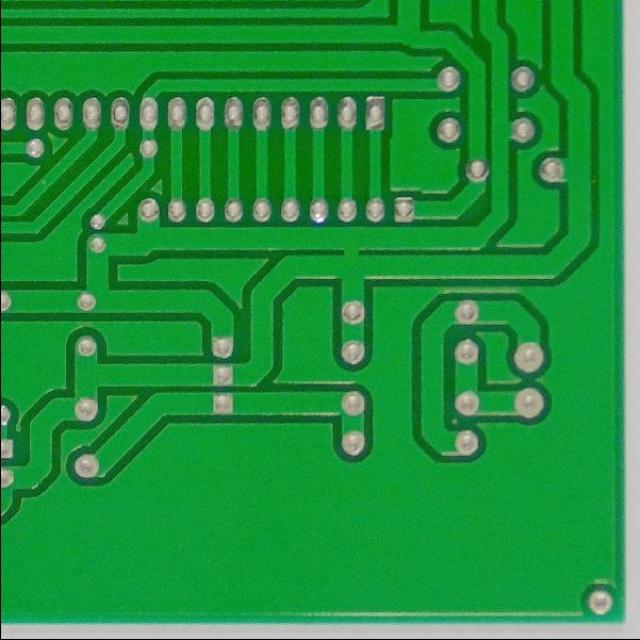short: (324, 227, 370, 283)
